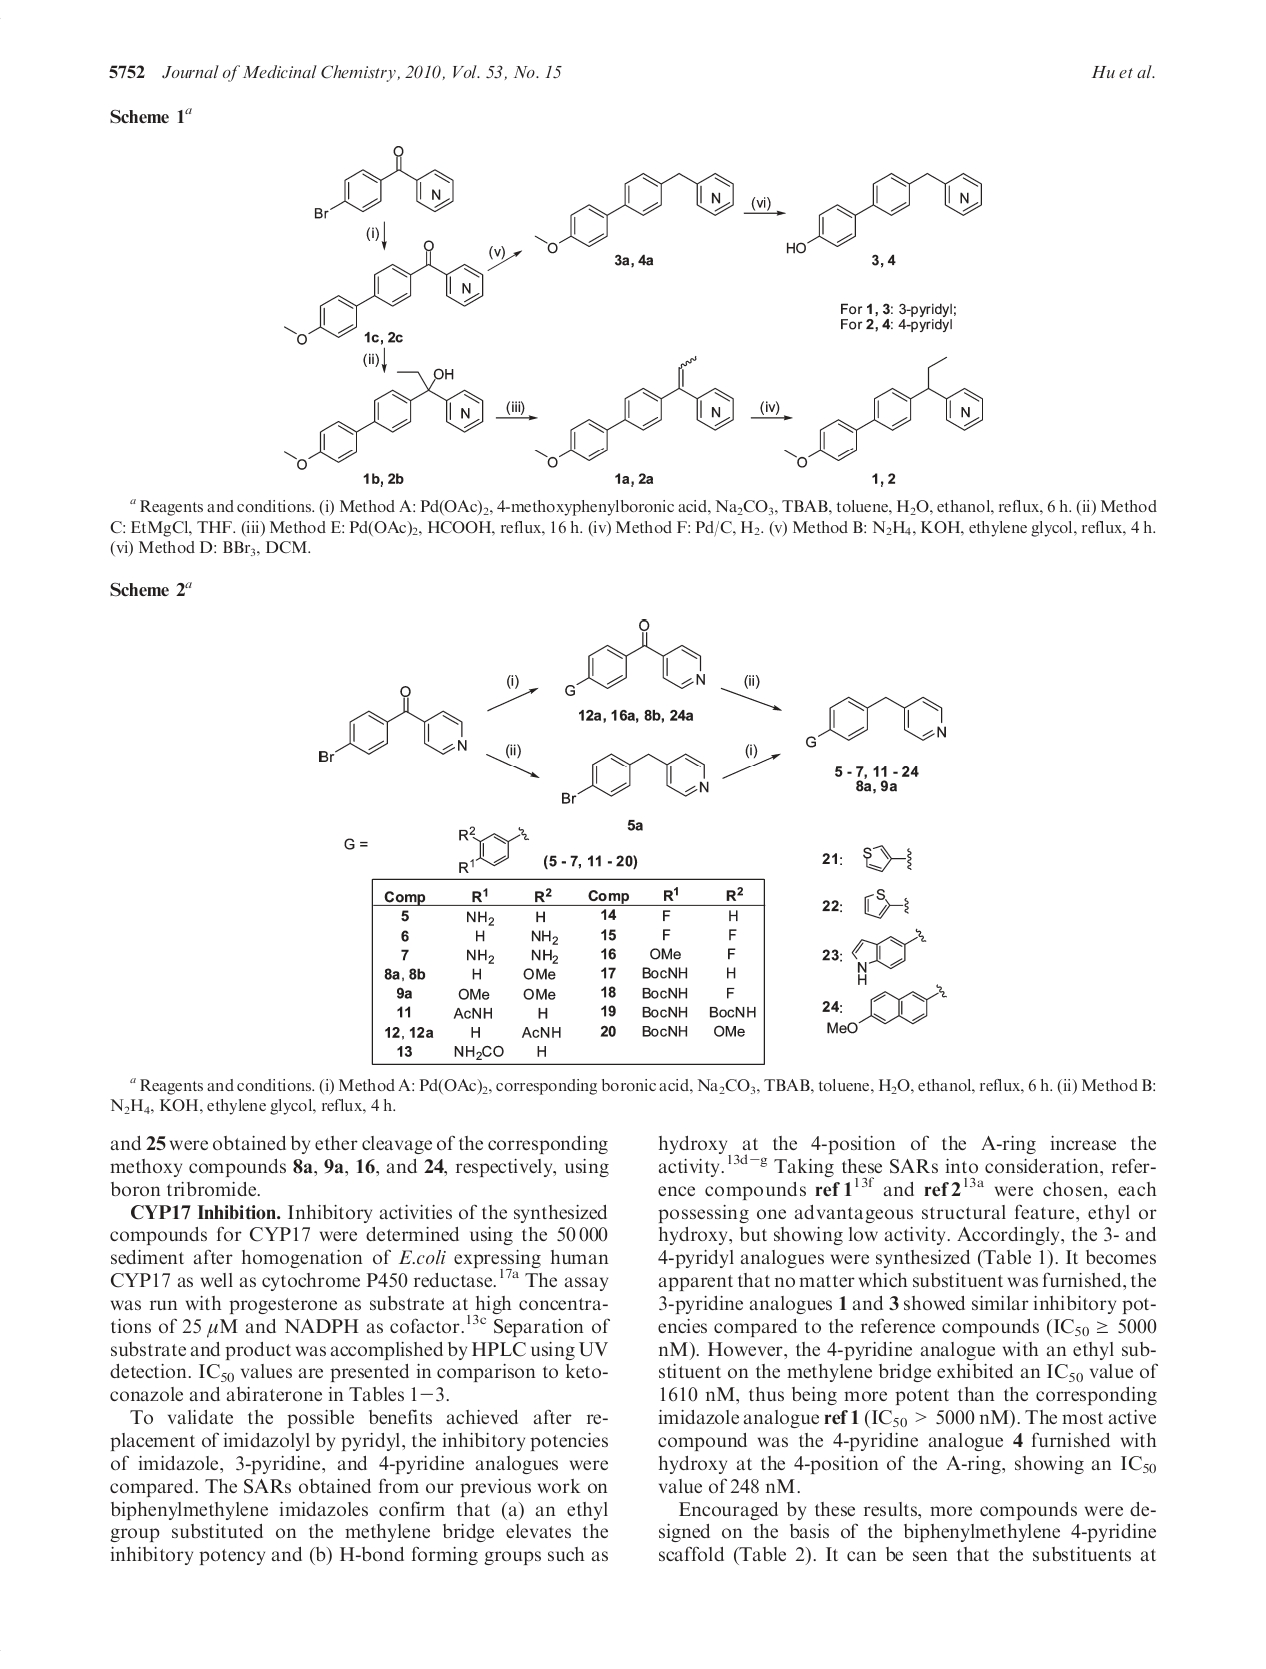exist_molecular: (533, 352, 735, 471), (785, 352, 985, 468), (283, 239, 485, 352), (285, 364, 485, 473), (533, 168, 737, 255), (783, 172, 985, 259), (313, 142, 457, 230), (563, 614, 707, 701), (318, 684, 468, 763), (805, 688, 948, 753), (559, 751, 710, 807), (824, 981, 949, 1035), (848, 924, 927, 987), (456, 823, 531, 872), (862, 842, 914, 874), (864, 887, 910, 922)
